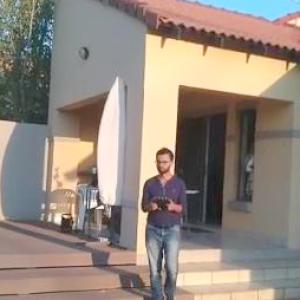follow: (137, 144, 190, 299)
